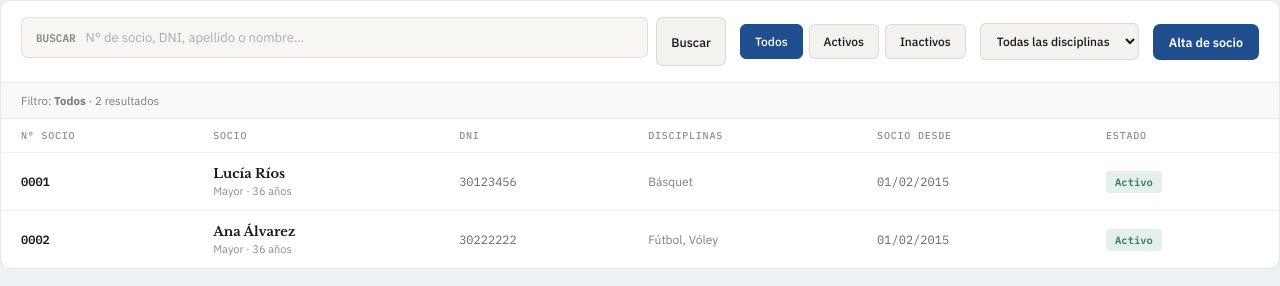
Test: MembersView disciplines in list and detail › filters the list by discipline and back to all
Expected: the button "Lucía Ríos" is shown, [213, 165, 435, 182]
Select "Fútbol" in the dropdown named "Filtrar por disciplina" at (1059, 42), box [980, 23, 1139, 60]
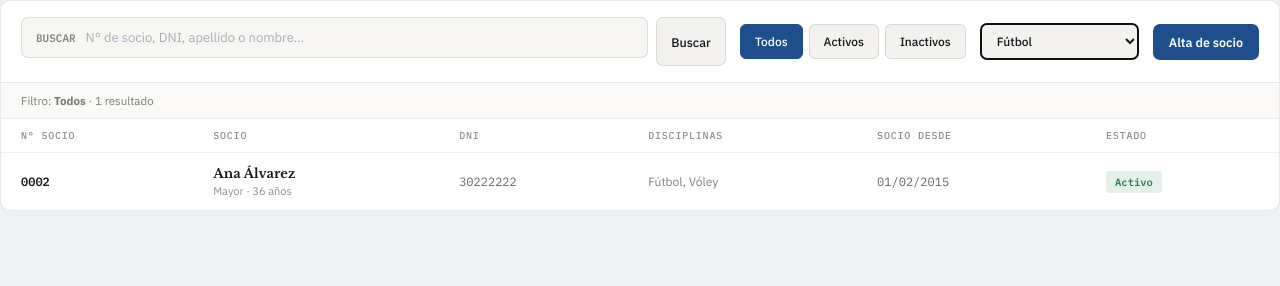
Expected: the button "Ana Álvarez" is shown, [213, 165, 435, 182]
Now the button "Lucía Ríos" is gone
Select "Todas las disciplinas" in the dropdown named "Filtrar por disciplina" at (1059, 42), box [980, 23, 1139, 60]
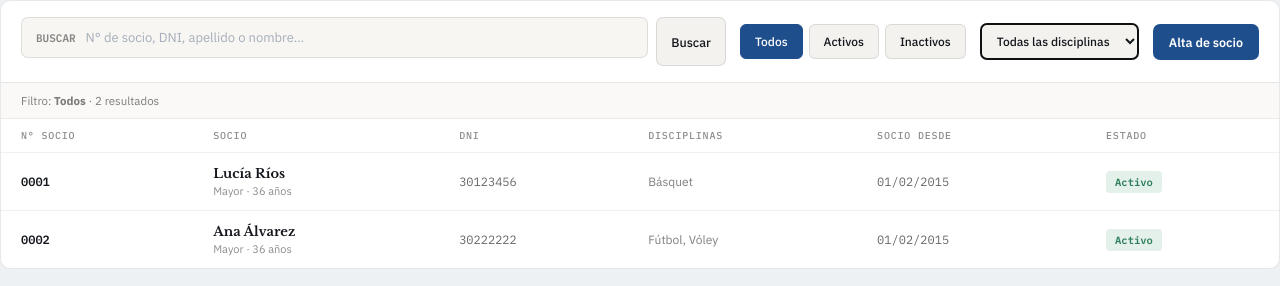
Now the button "Lucía Ríos" is shown, box [213, 165, 435, 182]
